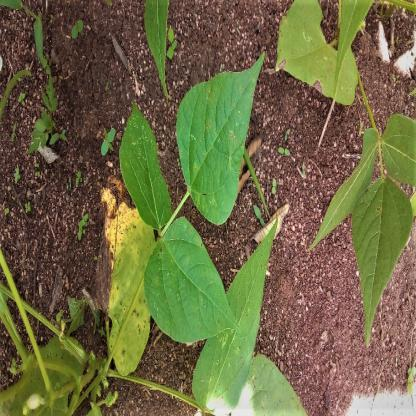Beans_Angular_LeafSpot: (186, 61, 260, 224), (280, 9, 340, 108), (201, 296, 252, 396)
